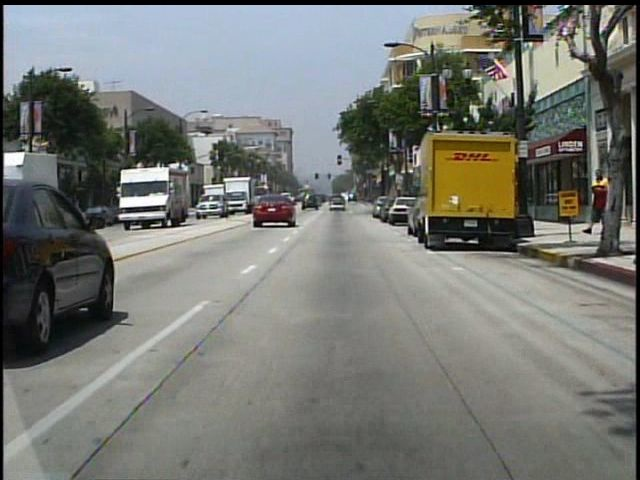person: (581, 166, 605, 237)
